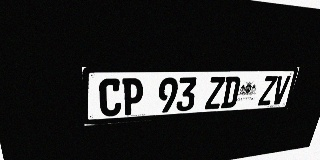3: (176, 77, 197, 112)
9: (157, 77, 179, 113)
C: (99, 78, 122, 117)
D: (220, 76, 241, 108)
P: (122, 78, 144, 115)
V: (271, 76, 291, 105)
Z: (205, 77, 226, 109), (258, 76, 278, 106)
